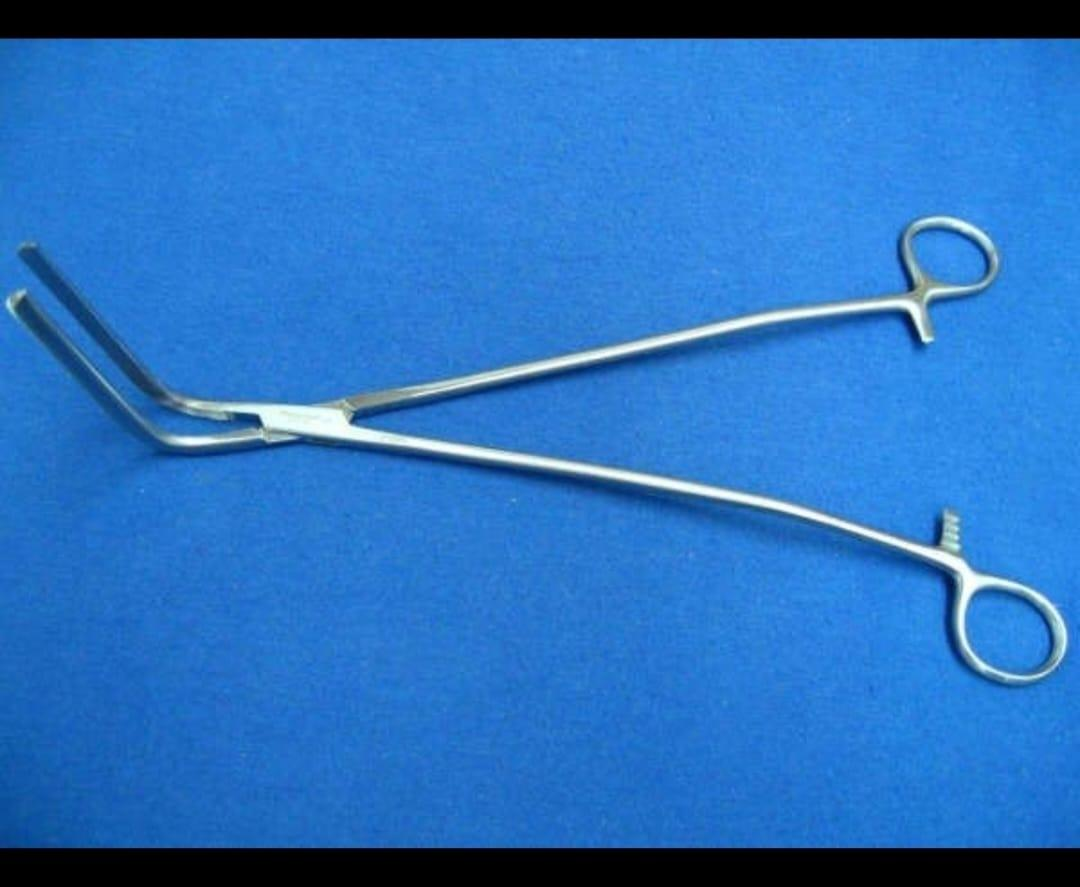Surgical blade: (10, 198, 1070, 691)
